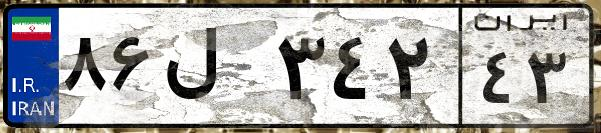2: (385, 28, 445, 110)
3: (270, 28, 330, 110), (525, 38, 570, 115)
4: (330, 28, 385, 110), (475, 38, 525, 113)
6: (110, 28, 158, 98)
8: (57, 26, 110, 100)
ل: (158, 20, 270, 120)
